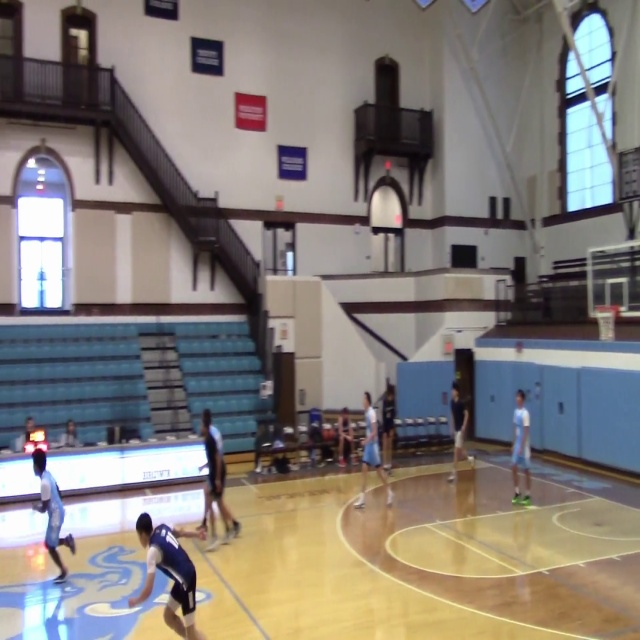Basketball: (197, 526, 208, 541)
